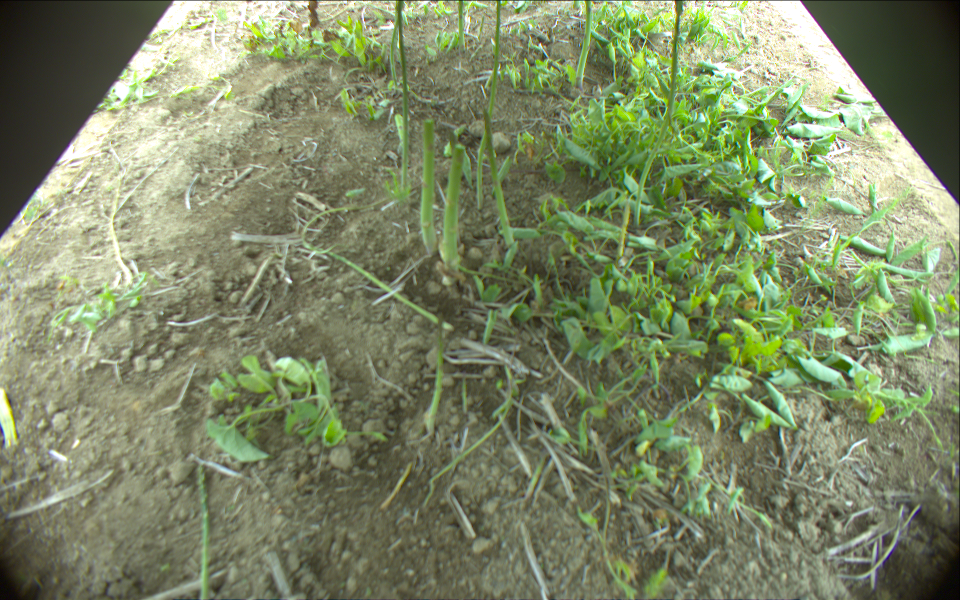aspa: (298, 200, 440, 326), (635, 1, 682, 227), (476, 1, 501, 209), (484, 106, 515, 247), (439, 142, 465, 263), (395, 1, 411, 195), (192, 461, 213, 600), (423, 313, 446, 433), (419, 117, 436, 255), (575, 1, 592, 87), (389, 11, 402, 80), (618, 205, 632, 256), (457, 1, 464, 48)
